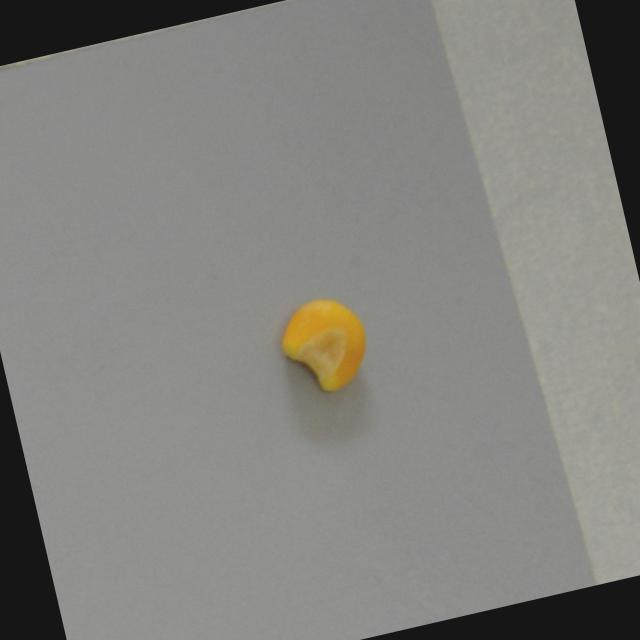no_canjicado: (267, 285, 382, 406)
